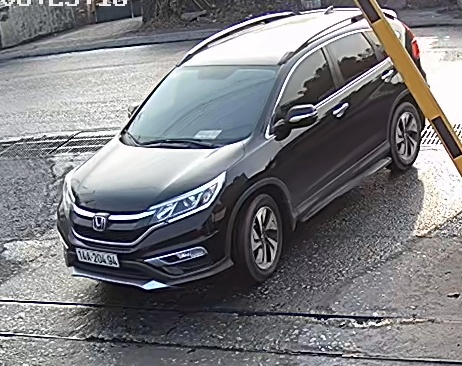vehicle plate: (67, 243, 127, 272)
